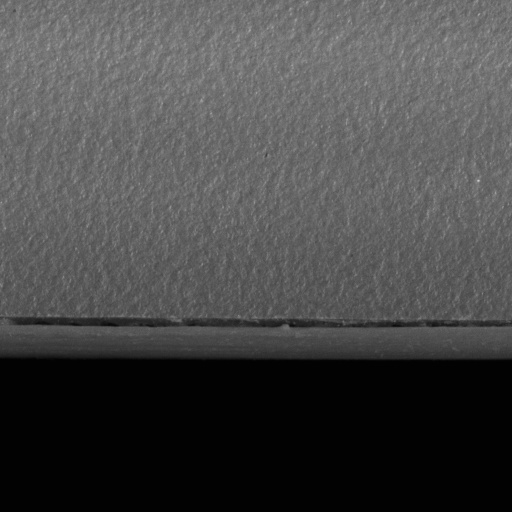kaijiao: (0, 311, 511, 363)
